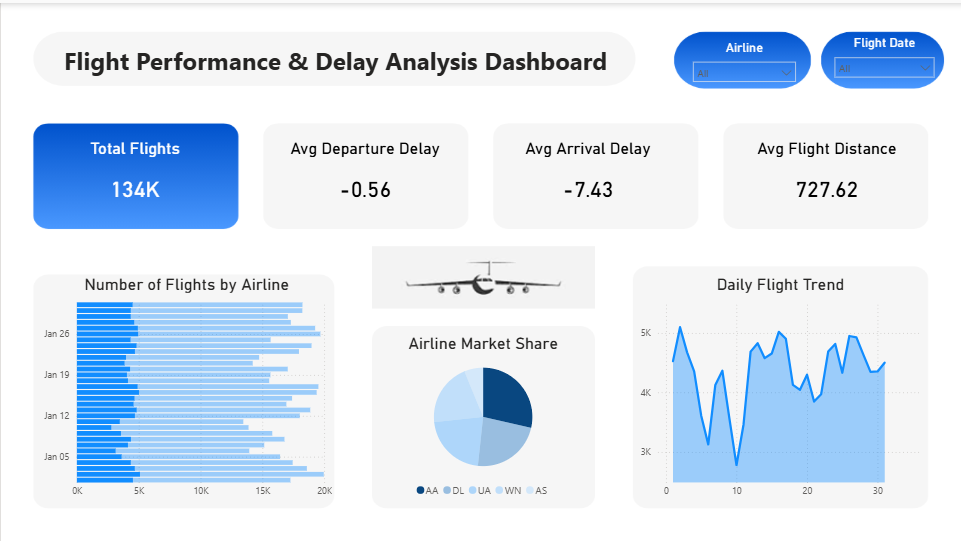

The page's visual inventory and layout, read from the dashboard file:
{"tool":"powerbi","page":{"name":"Page 1","canvas":[1280,720],"ordinal":0},"visuals":[{"type":"textbox","box":[0,49.1,887.5,67.4],"z":0},{"type":"slicer","title":"Airline","fields":{"Values":["clean_flight_data.MARKETING_AIRLINE_NETWORK"]},"box":[907.6,48.9,156.5,62.6],"z":1},{"type":"slicer","title":"Flight Date","fields":{"Values":["clean_flight_data.FLIGHTDATE"]},"box":[1095.4,43,152.6,72.4],"z":2},{"type":"card","title":"Total Flights","fields":{"Values":["clean_flight_data.Total Flights"]},"box":[48.9,180,258.2,107.6],"z":3},{"type":"card","title":"Avg Departure Delay","fields":{"Values":["clean_flight_data.Avg Departure Delay"]},"box":[354.1,180,258.2,107.6],"z":4},{"type":"card","title":"Avg Arrival Delay","fields":{"Values":["clean_flight_data.Avg Arrival Delay"]},"box":[649.4,180,258.2,107.6],"z":5},{"type":"card","title":"Avg Flight Distance","fields":{"Values":["clean_flight_data.Avg Distance"]},"box":[966.3,180,258.2,107.6],"z":6},{"type":"clusteredBarChart","title":"Number of Flights by Airline","fields":{"Category":["clean_flight_data.FLIGHTDATE"],"Y":["CountNonNull(clean_flight_data.MARKETING_AIRLINE_NETWORK)"]},"box":[48.9,359.9,395.1,305.2],"z":7},{"type":"stackedAreaChart","title":"Daily Flight Trend","fields":{"Category":["clean_flight_data.FLIGHTDATE.Variation.Date Hierarchy.Year","clean_flight_data.FLIGHTDATE.Variation.Date Hierarchy.Quarter","clean_flight_data.FLIGHTDATE.Variation.Date Hierarchy.Month","clean_flight_data.FLIGHTDATE.Variation.Date Hierarchy.Day"],"Y":["CountNonNull(clean_flight_data.FLIGHTDATE)"]},"box":[843.1,359.9,381.4,305.2],"z":8},{"type":"pieChart","title":"Airline Market Share","fields":{"Category":["clean_flight_data.MARKETING_AIRLINE_NETWORK"],"Y":["CountNonNull(clean_flight_data.FLIGHTDATE)"]},"box":[500.8,438.2,277.8,226.9],"z":9}]}

Visuals, with their boxes in screenshot pixels (x1, y1, x2, y2), scaled from the page's 1280x720 canvas onto the 961x541 screenshot:
textbox: 0,37,666,88
"Airline" slicer: 681,37,799,84
"Flight Date" slicer: 822,32,937,87
"Total Flights" card: 37,135,231,216
"Avg Departure Delay" card: 266,135,460,216
"Avg Arrival Delay" card: 488,135,681,216
"Avg Flight Distance" card: 725,135,919,216
"Number of Flights by Airline" clusteredBarChart: 37,270,333,500
"Daily Flight Trend" stackedAreaChart: 633,270,919,500
"Airline Market Share" pieChart: 376,329,585,500
